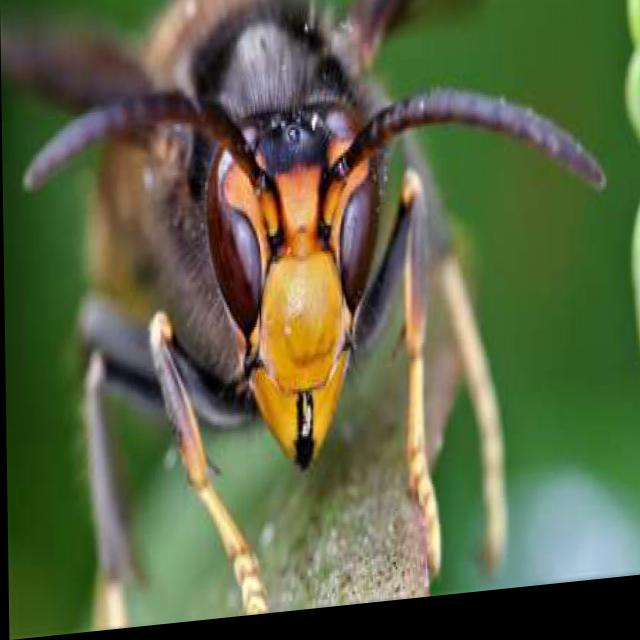Vespa Velutina: (0, 0, 616, 638)
